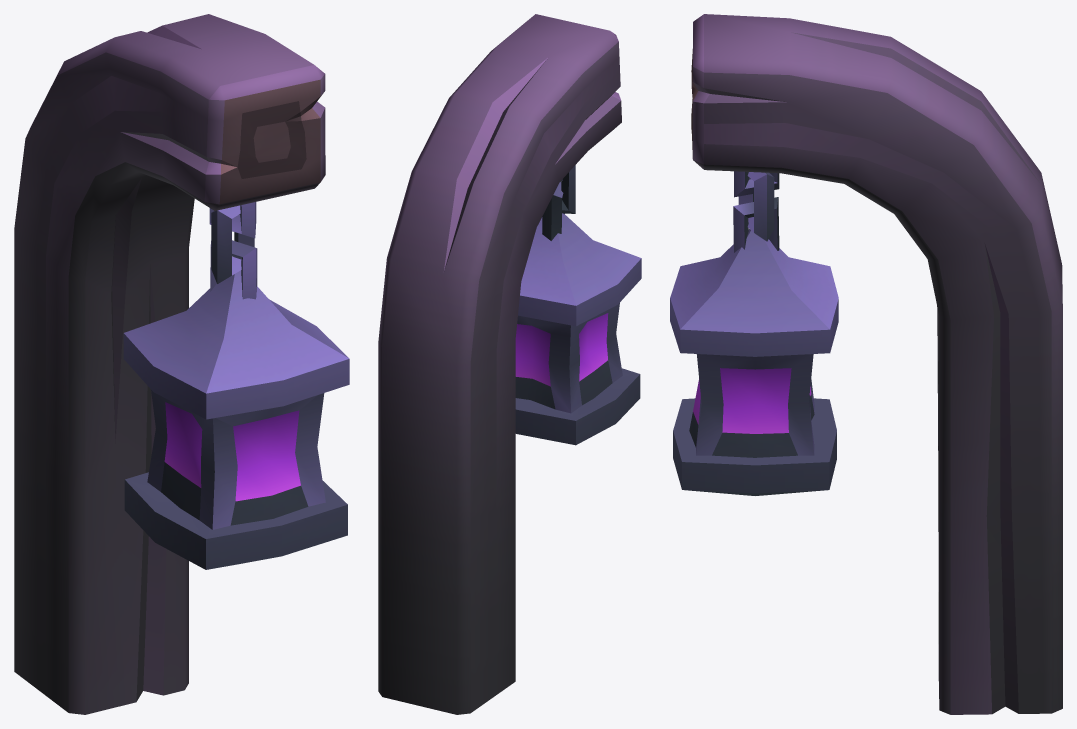
Rendered from undead_lamp_post.fbx.
The picture shows the model from 3 angles, left to right: view 1: azimuth 30°, elevation 25°; view 2: azimuth 150°, elevation 25°; view 3: azimuth 270°, elevation 25°; orthographic projection. The views are drawn at different scales.
Parts seen in each view (by area): view 1: undead_lamp_post; view 2: undead_lamp_post; view 3: undead_lamp_post.
Boxes of the visible parts, box(x1,y1,x2,y2) form: undead_lamp_post: box(14, 14, 349, 714); undead_lamp_post: box(378, 14, 641, 714); undead_lamp_post: box(670, 14, 1062, 714).
Bounding box in the file's own units: 0.7973 × 3.37 × 1.83.
